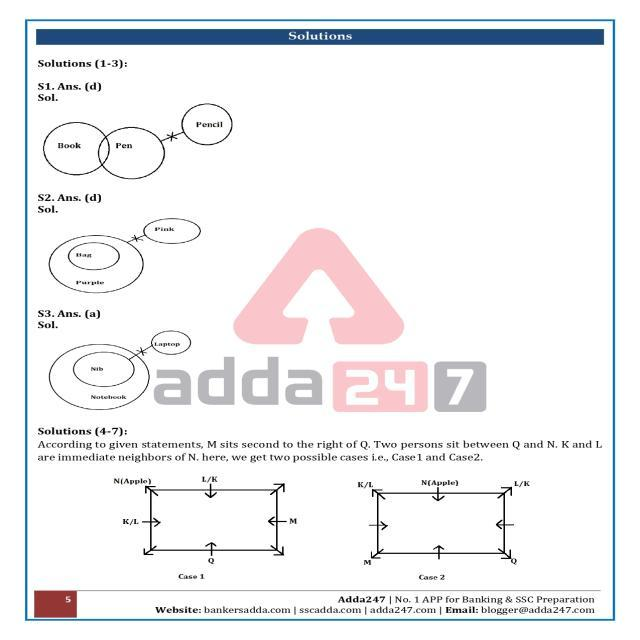Answer_Block: (29, 419, 607, 586), (29, 24, 609, 186), (29, 300, 609, 418), (29, 186, 609, 298)
Question_Paper_Area: (32, 25, 612, 588)
